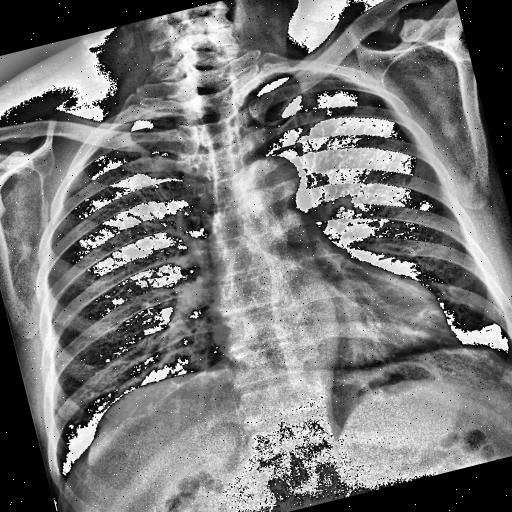0- Aortic enlargement: (232, 150, 310, 238), (234, 144, 308, 222)
10- Pleural effusion: (50, 465, 79, 496)
11- Pleural thickening: (50, 465, 79, 496)
9- Other lesion: (40, 366, 234, 493)
